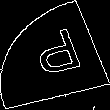P_S: (24, 25, 86, 85)
